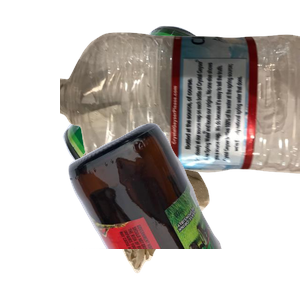glass: (66, 120, 300, 300)
metal: (60, 23, 300, 203)
plastic: (60, 30, 300, 196)
trash: (79, 123, 281, 300)
